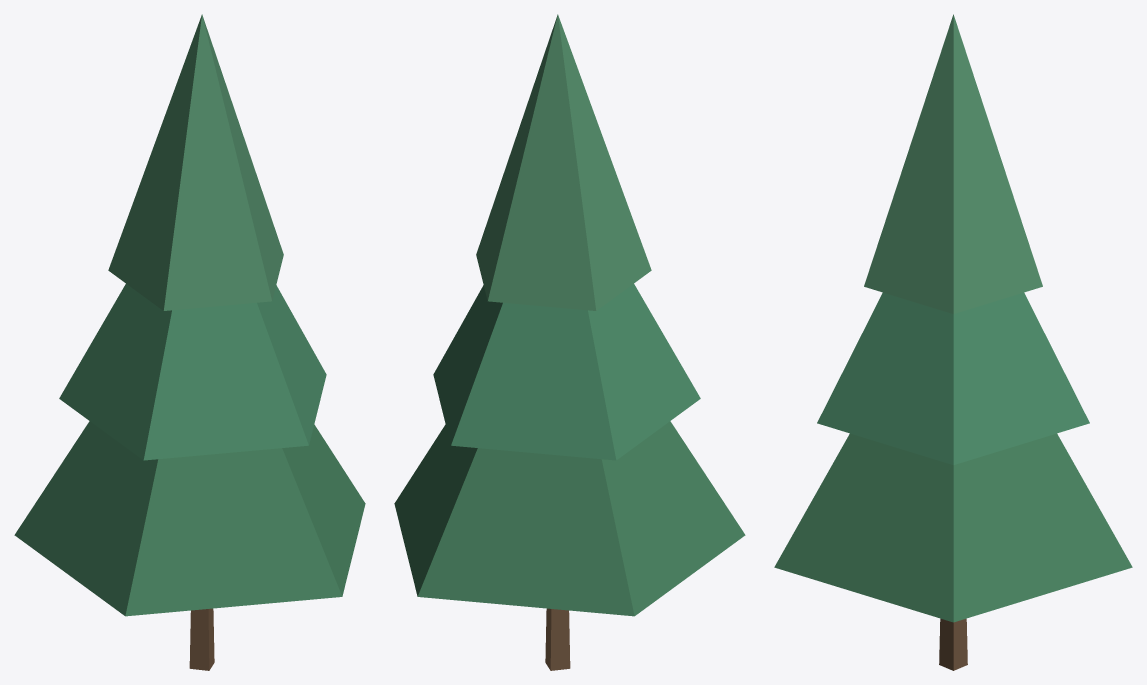
The model's file is ski-spruce.glb.
3 views of the same model, side by side, from view 1: azimuth 30°, elevation 25°; view 2: azimuth 150°, elevation 25°; view 3: azimuth 270°, elevation 25° (orthographic).
Visible parts, largest first — view 1: Lower branches, Middle branches, Crown, Spruce trunk; view 2: Lower branches, Middle branches, Crown, Spruce trunk; view 3: Lower branches, Middle branches, Crown, Spruce trunk.
Boxes of the visible parts, <box> form: Lower branches: <box>14,421,365,616</box>; Middle branches: <box>59,284,326,460</box>; Crown: <box>108,14,283,310</box>; Spruce trunk: <box>189,608,214,670</box>; Lower branches: <box>394,421,745,616</box>; Middle branches: <box>433,284,700,460</box>; Crown: <box>476,14,651,310</box>; Spruce trunk: <box>545,608,570,670</box>; Lower branches: <box>774,433,1132,622</box>; Middle branches: <box>817,292,1089,464</box>; Crown: <box>864,14,1042,313</box>; Spruce trunk: <box>939,618,967,670</box>.
Size of the model in its own units: 3.8 by 8 by 3.99.
